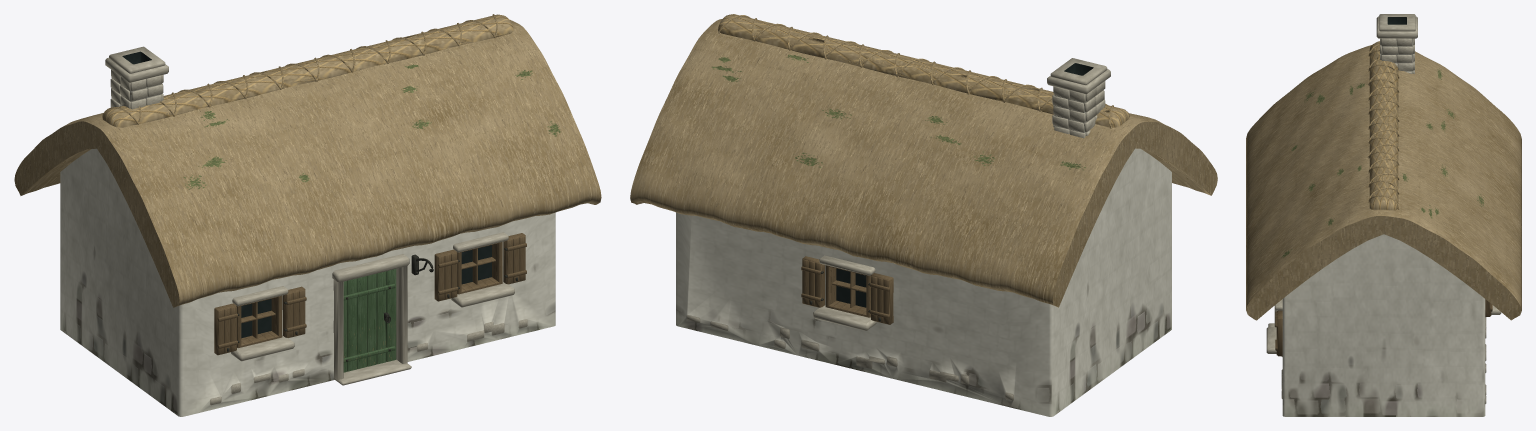
File: cottage_a.glb
3 renders of one model, left to right at view 1: azimuth 30°, elevation 25°; view 2: azimuth 150°, elevation 25°; view 3: azimuth 270°, elevation 25°, orthographic. The views are drawn at different scales.
Visible parts, largest first — view 1: Farming_Village_Cottage; view 2: Farming_Village_Cottage; view 3: Farming_Village_Cottage.
Part boxes in pixels (box(x1,y1,x2,y2)): Farming_Village_Cottage: box(14, 14, 601, 416); Farming_Village_Cottage: box(630, 14, 1217, 416); Farming_Village_Cottage: box(1246, 14, 1521, 416).
Size of the model in its own units: 8.5 by 5.83 by 5.76.
Materials: 1 (1 with a texture image).
